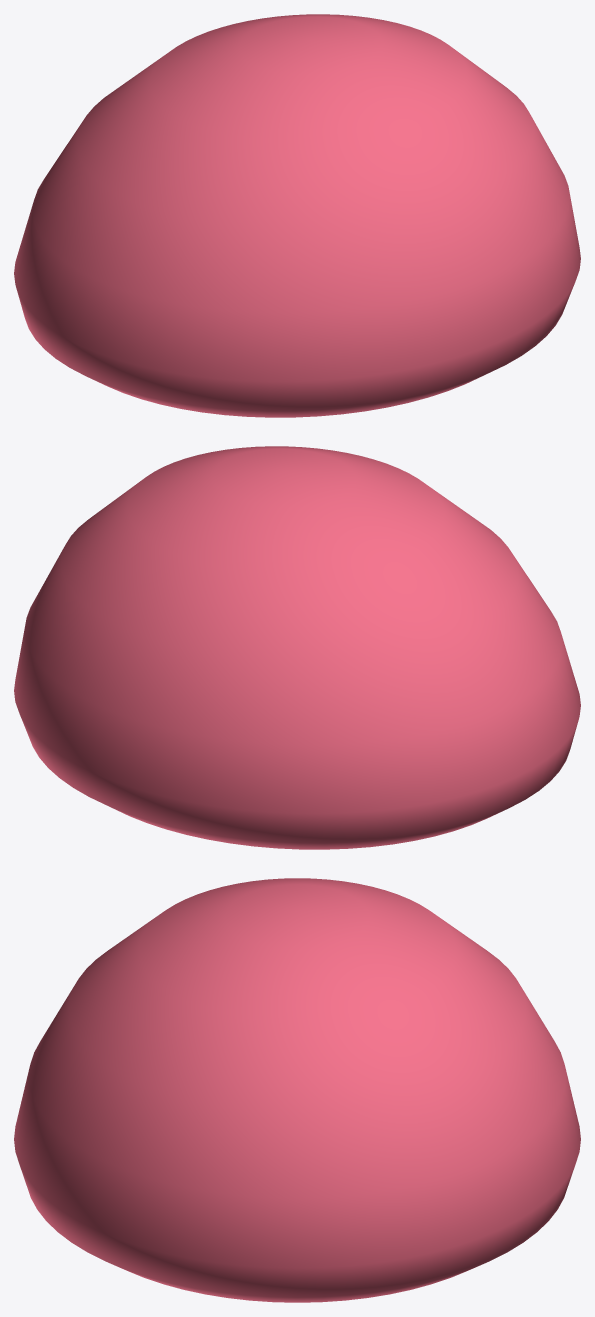
Rendered from capsule-cherry-1J5oLmm-.glb.
The picture shows the model from 3 angles, top to bottom: view 1: azimuth 30°, elevation 25°; view 2: azimuth 150°, elevation 25°; view 3: azimuth 270°, elevation 25°; orthographic projection. The views are drawn at different scales.
Parts seen in each view (by area): view 1: capsule_body; view 2: capsule_body; view 3: capsule_body.
Boxes of the visible parts, left/top/right/bottom form: capsule_body: left=14, top=14, right=580, bottom=417; capsule_body: left=14, top=446, right=580, bottom=849; capsule_body: left=14, top=878, right=580, bottom=1302.
Bounding box in the file's own units: 0.34 × 0.185 × 0.3162.
